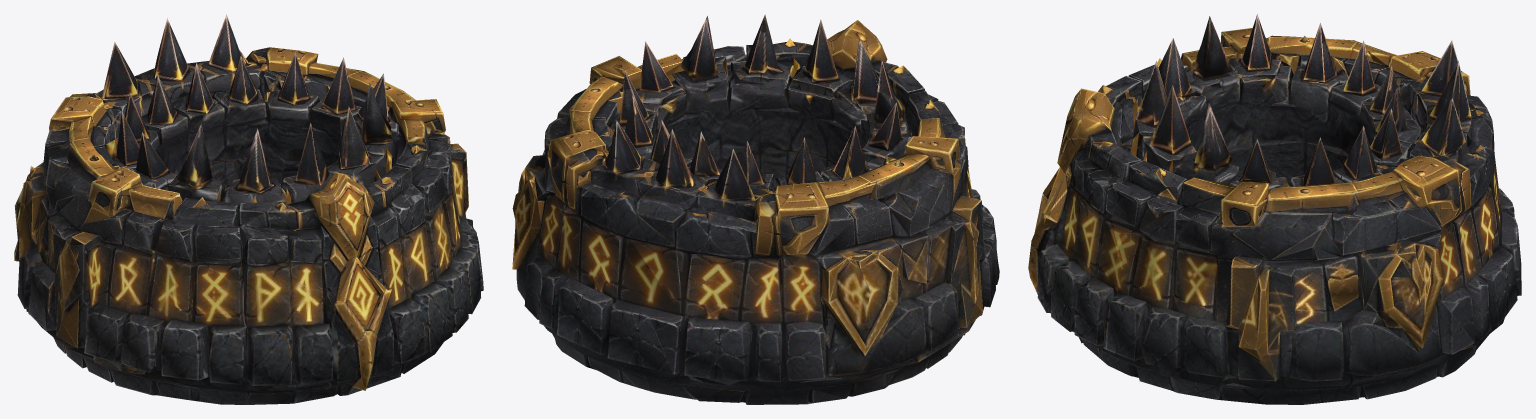
The model's file is pit-3.glb.
3 renders of one model, left to right at view 1: azimuth 30°, elevation 25°; view 2: azimuth 150°, elevation 25°; view 3: azimuth 270°, elevation 25°, orthographic. The views are drawn at different scales.
Bounding box in the file's own units: 1.97 × 1.16 × 2.
1 material, 1 textured.
